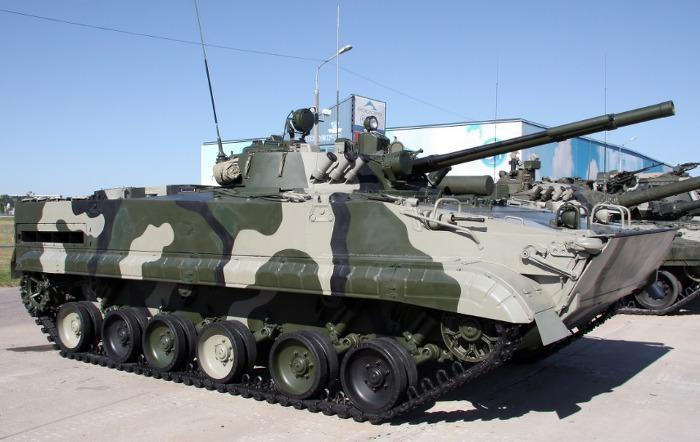MIL_IFV: (4, 88, 681, 423)
